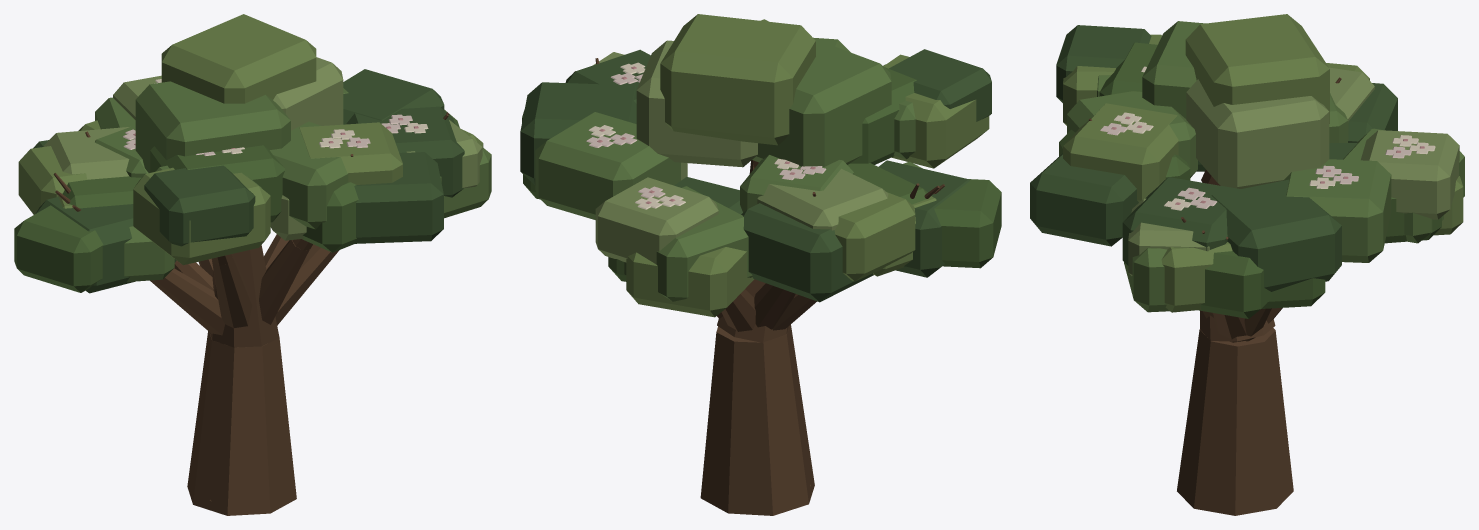
The model's file is apple_mature_spring_2.glb.
The picture shows the model from 3 angles, left to right: view 1: azimuth 30°, elevation 25°; view 2: azimuth 150°, elevation 25°; view 3: azimuth 270°, elevation 25°; orthographic projection. The views are drawn at different scales.
Visible parts, largest first — view 1: apple_mature_spring_2; view 2: apple_mature_spring_2; view 3: apple_mature_spring_2.
Part boxes in pixels (x1,y1,x2,y2): apple_mature_spring_2: (14, 14, 491, 515); apple_mature_spring_2: (520, 14, 1001, 515); apple_mature_spring_2: (1030, 14, 1464, 515).
Bounding box in the file's own units: 12.68 × 12 × 10.4.
